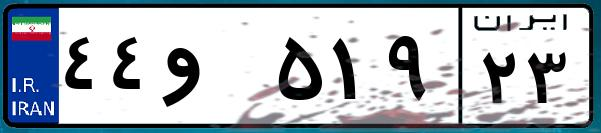1: (330, 28, 385, 110)
2: (475, 38, 525, 113)
3: (525, 38, 570, 115)
4: (57, 26, 110, 100), (110, 28, 158, 98)
5: (270, 28, 330, 110)
9: (385, 28, 445, 110)
و: (158, 20, 270, 120)
